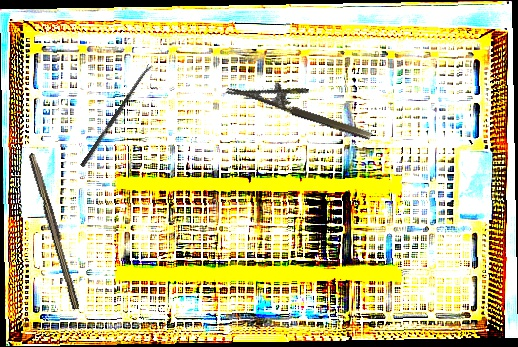Needle Holder: (225, 64, 379, 142)
Scalpel Handle: (25, 151, 85, 311)
Surgical Spoon: (80, 63, 153, 168)
